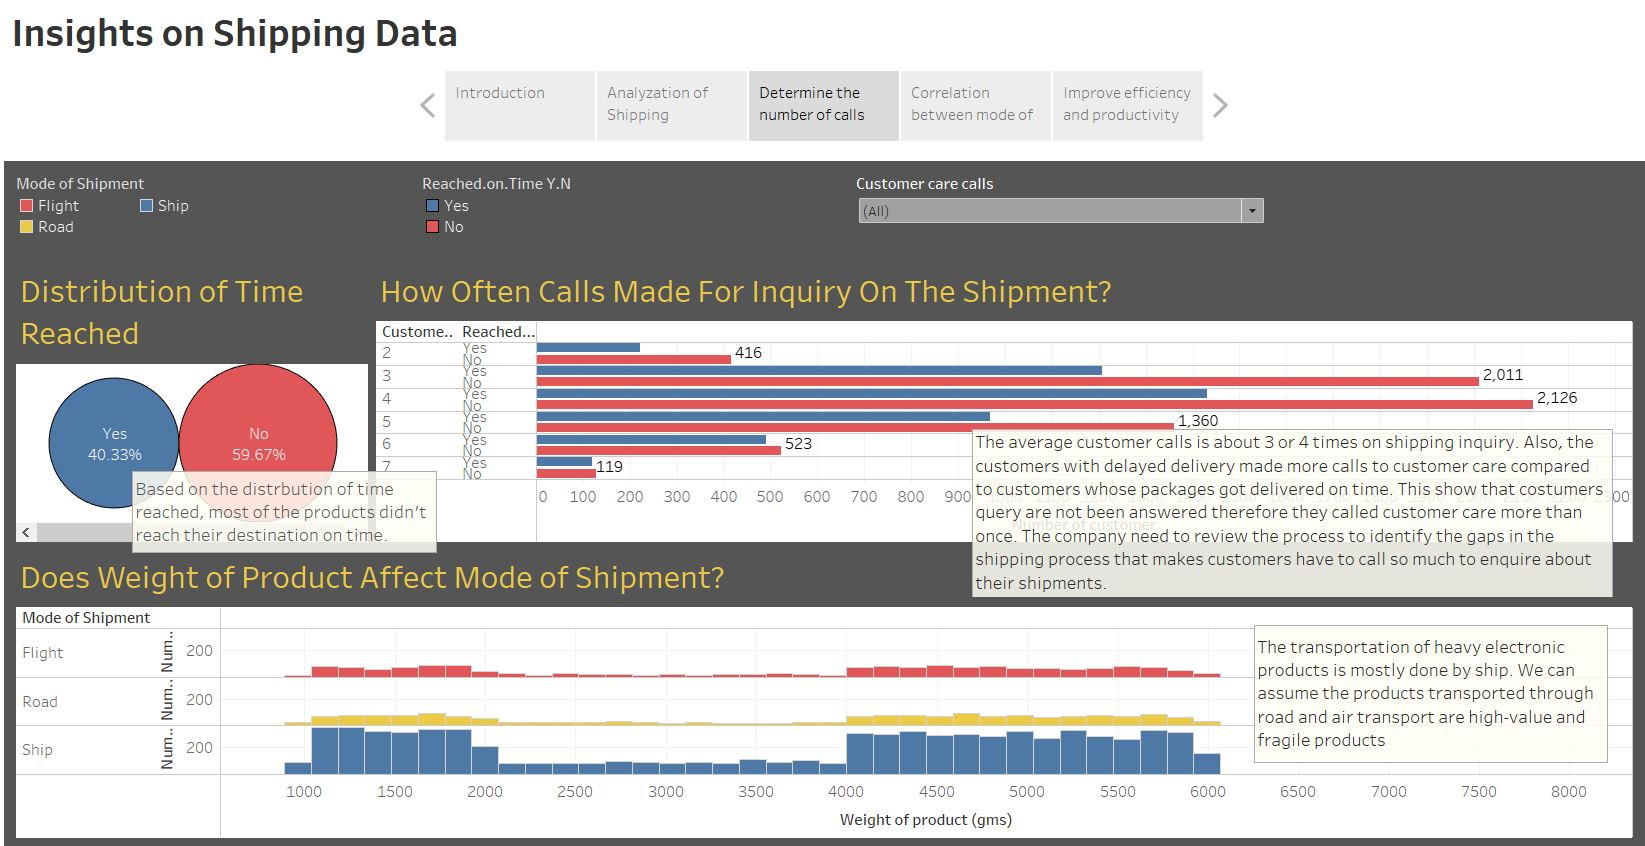

The dashboard page shown, as its layout file describes it:
{"tool":"tableau","page":{"name":"Dashboard 4","canvas":[1600,800],"ordinal":0},"visuals":[{"type":"title","box":[8,8,1584,51]},{"type":"filter","title":"Weight of product affect mode of shipment?","param":"[federated.1pj65a8108ijel0zj3r5i0mok536].[none:Mode_of_Shipment:nk]","box":[8,59,525,77]},{"type":"filter","title":"Weight of product affect mode of shipment?","param":"[federated.1pj65a8108ijel0zj3r5i0mok536].[none:Reached.on.Time_Y.N:ok]","box":[533,59,545,77]},{"type":"filter","title":"How often calls made for inquiry of the shipment?","param":"[federated.1pj65a8108ijel0zj3r5i0mok536].[none:Customer_care_calls:ok]","box":[1078,59,482,77]},{"type":"worksheet","title":"Weight of product affect mode of shipment?","mark":"Automatic","rows":["Mode_of_Shipment","Weight_in_gms"],"cols":["Weight in gms (bin)"],"box":[8,136,792,328]},{"type":"worksheet","title":"Does mode of shipment affect delivery time?","mark":"Automatic","rows":["ID"],"cols":["Mode_of_Shipment","Reached.on.Time_Y.N"],"box":[800,136,792,656]},{"type":"worksheet","title":"How often calls made for inquiry of the shipment?","mark":"Automatic","rows":["Customer_care_calls","Reached.on.Time_Y.N"],"cols":["ID"],"box":[8,464,792,328]}]}

Visuals, with their boxes in screenshot pixels (x1, y1, x2, y2), scaled from the page's 1600x800 canvas onto the 1645x846 screenshot:
title: crop(8, 8, 1637, 62)
"Weight of product affect mode of shipment?" filter: crop(8, 62, 548, 144)
"Weight of product affect mode of shipment?" filter: crop(548, 62, 1108, 144)
"How often calls made for inquiry of the shipment?" filter: crop(1108, 62, 1604, 144)
"Weight of product affect mode of shipment?" worksheet: crop(8, 144, 822, 491)
"Does mode of shipment affect delivery time?" worksheet: crop(822, 144, 1637, 838)
"How often calls made for inquiry of the shipment?" worksheet: crop(8, 491, 822, 838)
